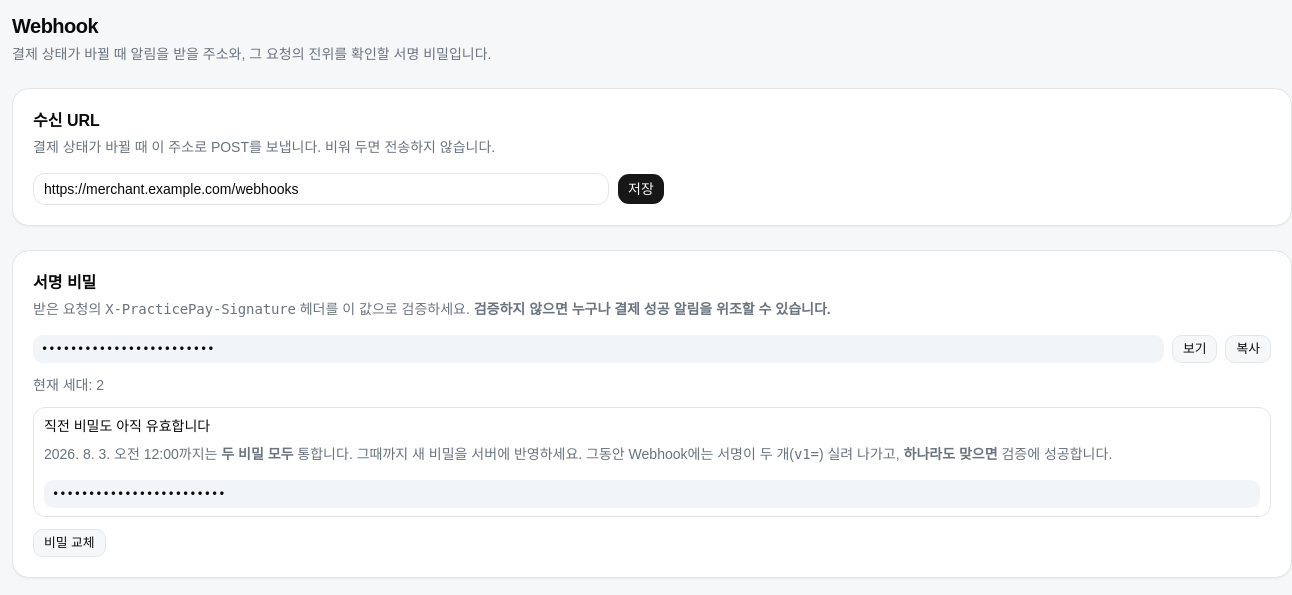
WebhookPage › 겹침 기간에는 직전 비밀과 만료 시각을 함께 보여준다
Check: the text "직전 비밀도 아직 유효합니다" is shown, box 44,418 -> 210,434
직전 비밀도 현재 비밀과 같은 규칙으로 가려 둔다 — "보기"를 눌러야 드러난다.
Click the button "보기" at (1195, 349), box 1172,335 -> 1217,363
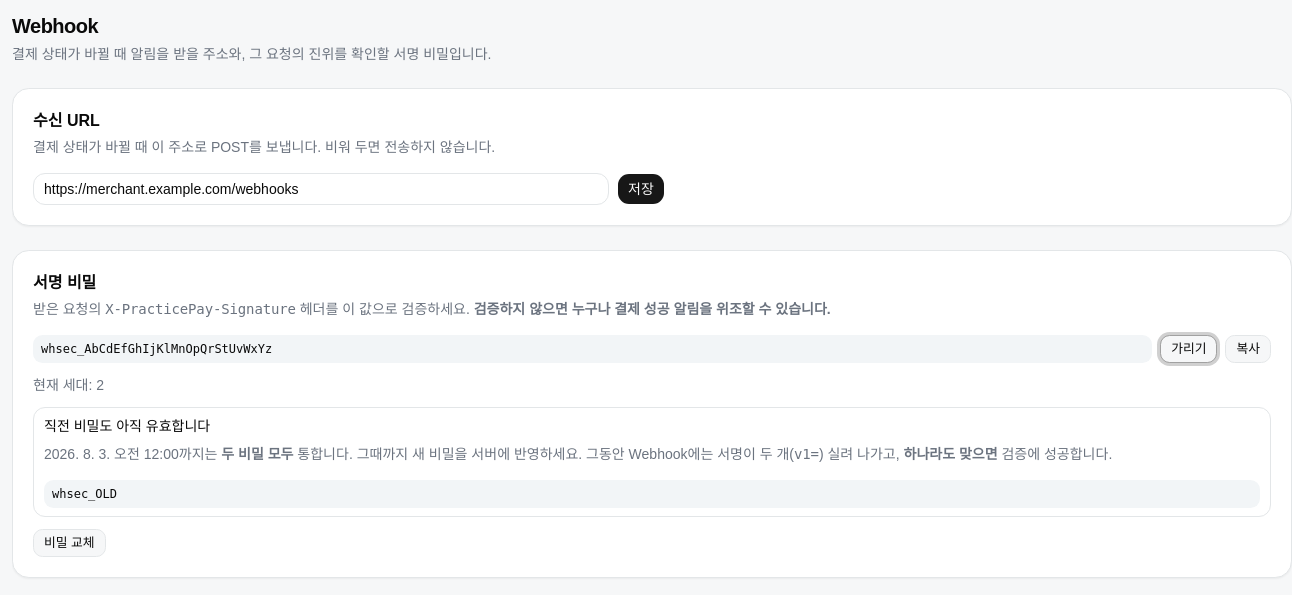
Check: the text "whsec_OLD" is shown, box 44,480 -> 1260,508
